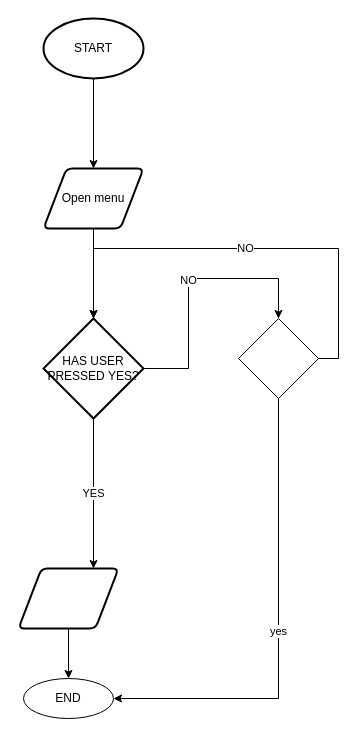
The diagram is 364 pixels wide and 736 high, and some of its shapes have lost their labels. Here are the shapes that lost their labels. From the top down, the box of each, then its label:
(238, 318, 318, 398): HAS USER PRESSED EXIT?
(17, 567, 119, 629): ENTER GAME
